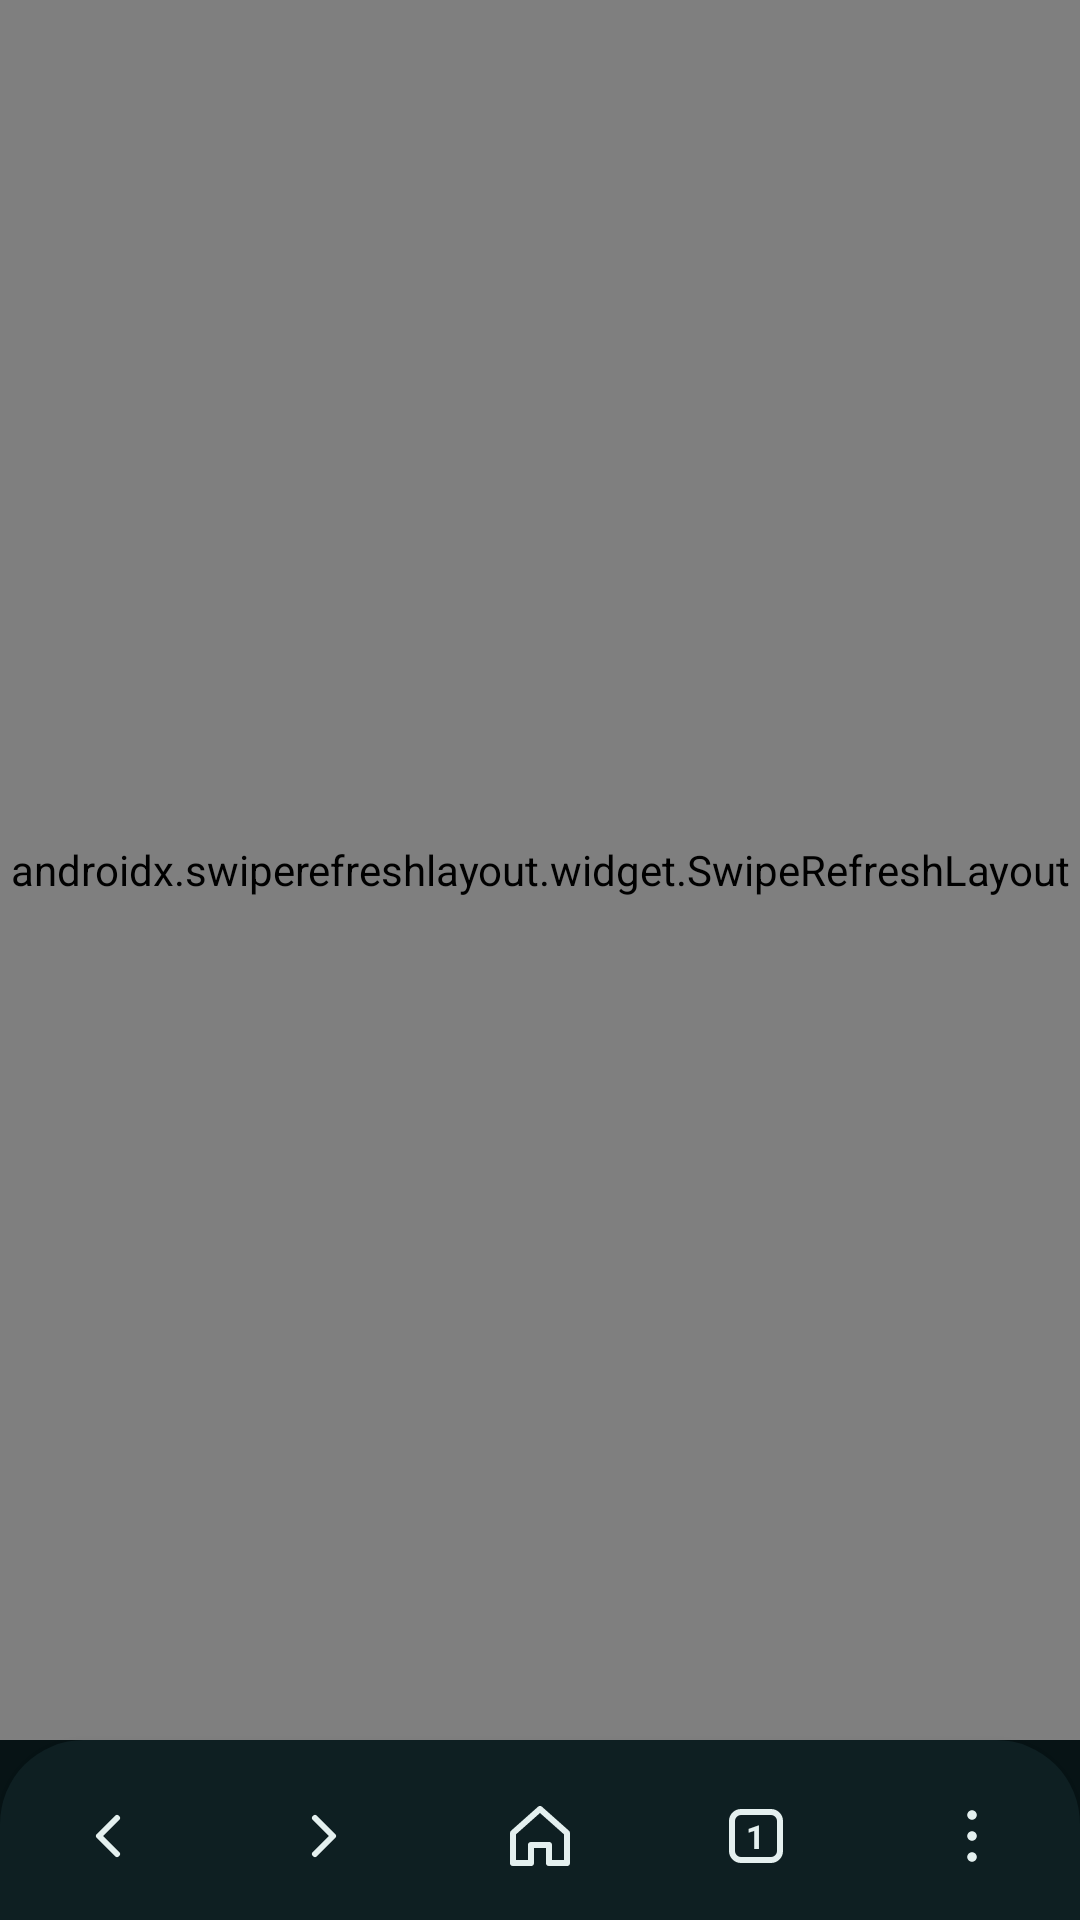

Where to tap for icons on this 1080 × 1920 app screen, as (x,y):
Back: (108,1836)
Forward: (324,1836)
Home: (540,1836)
Menu: (972,1836)
Tabs: (756,1836)
